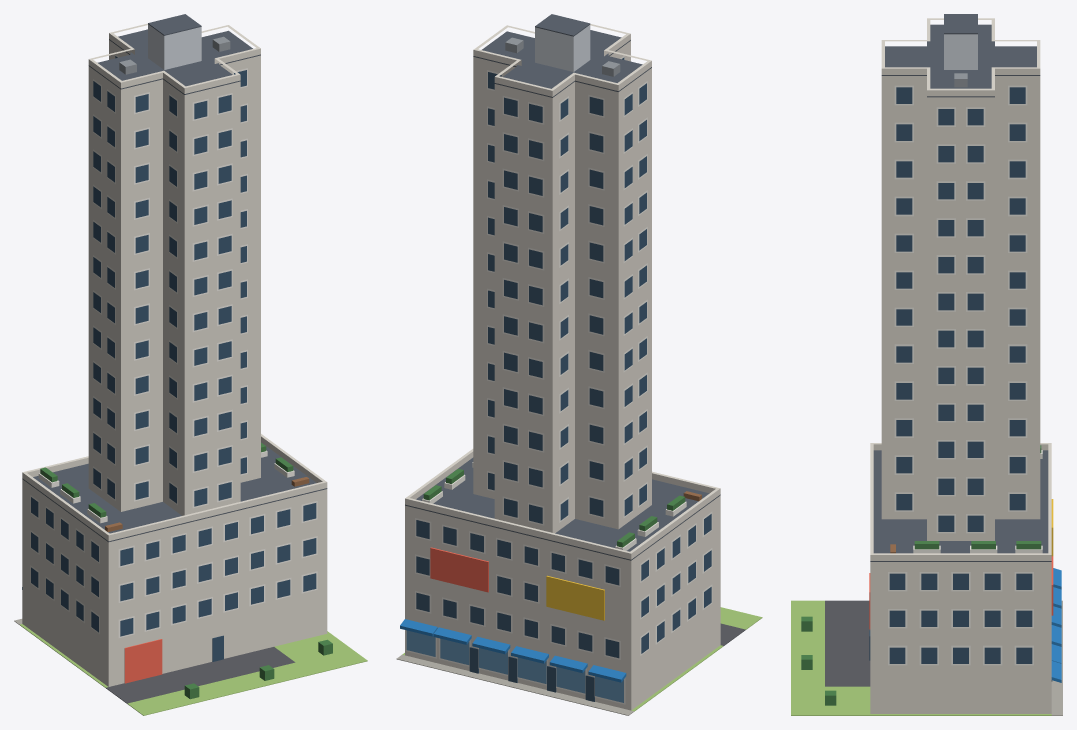
3 renders of one model, left to right at view 1: azimuth 30°, elevation 25°; view 2: azimuth 150°, elevation 25°; view 3: azimuth 270°, elevation 25°, orthographic. The views are drawn at different scales.
Parts seen in each view (by area): view 1: wall, podium, roof (×3), parapet (×4), lawn (×2), asphalt, plant_room, garage_door; view 2: wall, podium, roof (×3), parapet (×4), sign (×2), storefront (×6), plant_room, paving, lawn; view 3: wall, podium, roof (×3), lawn (×2), parapet (×4), asphalt, plant_room, paving.
Part boxes in pixels (x1,y1,x2,y2): wall: (88,40,260,515); podium: (22,479,327,686); roof (×3): (22,14,327,542); parapet (×4): (24,23,327,541); lawn (×2): (127,633,367,715); asphalt: (106,647,295,703); plant_room: (148,24,201,69); garage_door: (124,639,162,683); wall: (473,41,651,533); podium: (405,495,720,710); roof (×3): (405,14,720,560); parapet (×4): (405,24,718,559); sign (×2): (430,547,604,620); storefront (×6): (406,630,623,702); plant_room: (535,25,590,71); paving: (396,654,633,715); lawn: (720,607,762,629); wall: (881,76,1040,540); podium: (870,562,1051,713); roof (×3): (870,14,1051,561); lawn (×2): (791,600,870,715); parapet (×4): (870,18,1051,560); asphalt: (825,600,870,686); plant_room: (944,34,977,69); paving: (1051,600,1062,715).
Size of the model in its own units: 24 by 61.86 by 24.
